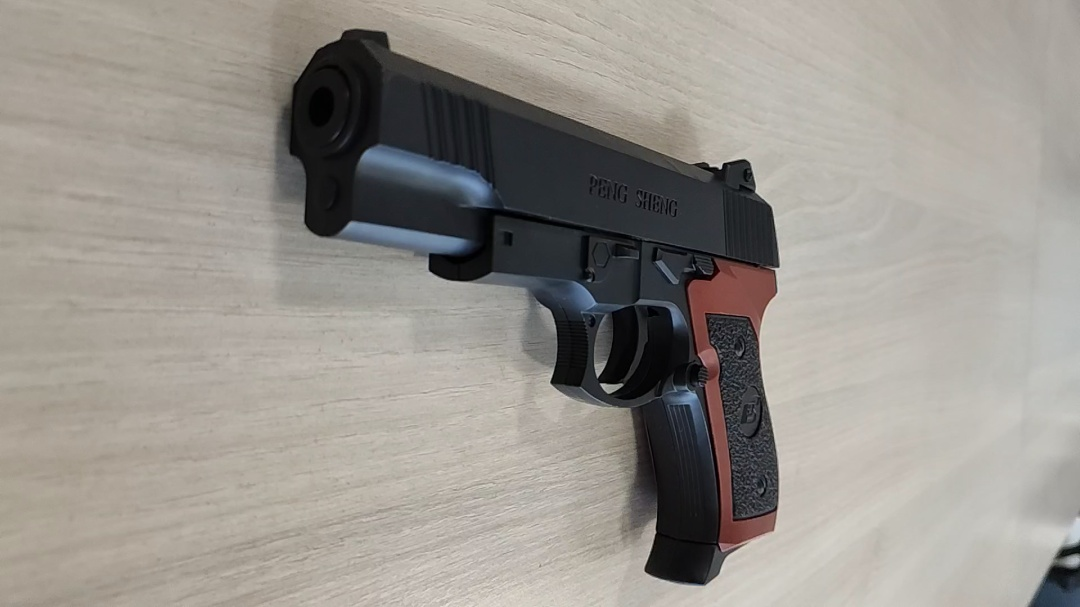gun: (485, 186, 580, 269)
